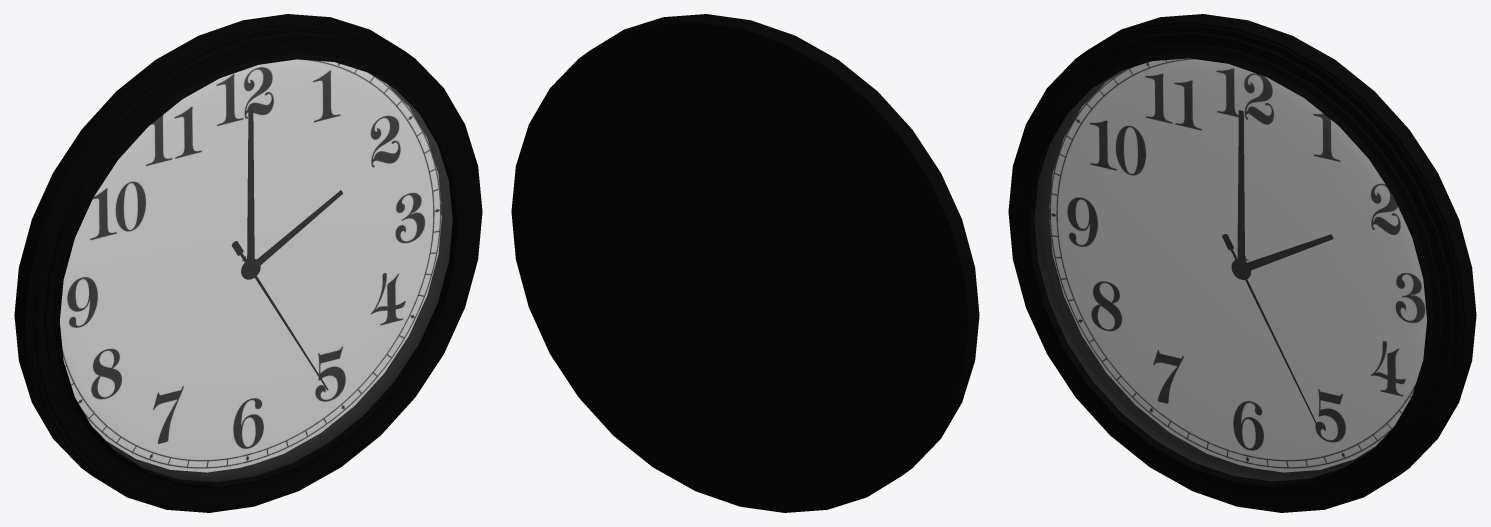
Rendered from clock.glb.
The picture shows the model from 3 angles, left to right: view 1: azimuth 30°, elevation 25°; view 2: azimuth 150°, elevation 25°; view 3: azimuth 330°, elevation 25°; orthographic projection.
Visible parts, largest first — view 1: clock_glass, clock_face, clock_frame, clock_big_hand, clock_small_hand, clock_second_hand; view 2: clock_frame; view 3: clock_glass, clock_face, clock_frame, clock_big_hand, clock_small_hand, clock_second_hand.
Boxes of the visible parts, x1,y1,x2,y2 form: clock_glass: (60,59,452,481); clock_face: (60,59,442,472); clock_frame: (14,14,482,512); clock_big_hand: (241,110,260,279); clock_small_hand: (241,190,343,279); clock_second_hand: (231,241,328,390); clock_frame: (511,14,979,512); clock_glass: (1034,58,1426,480); clock_face: (1048,58,1426,472); clock_frame: (1008,14,1476,512); clock_big_hand: (1231,110,1250,279); clock_small_hand: (1231,234,1333,279); clock_second_hand: (1222,234,1318,427).
Size of the model in its own units: 0.6937 by 0.6937 by 0.0557.
Materials: 4 (1 with a texture image).
